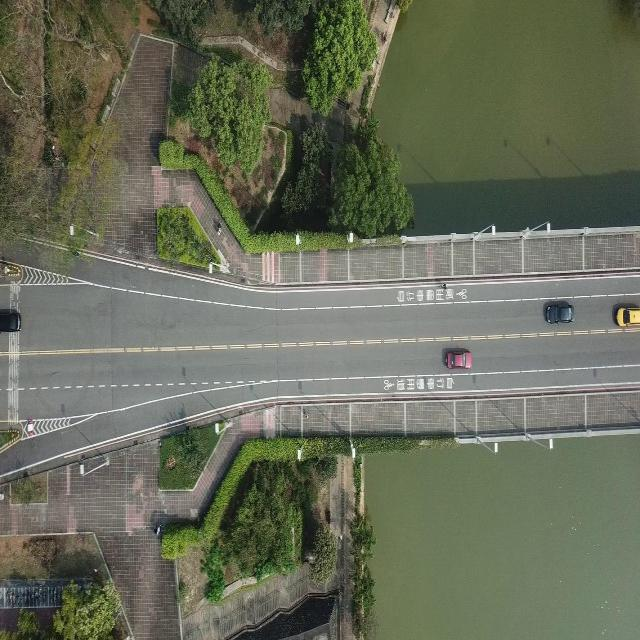car: (543, 301, 575, 324), (442, 346, 472, 370), (612, 302, 639, 327), (0, 307, 21, 332)
